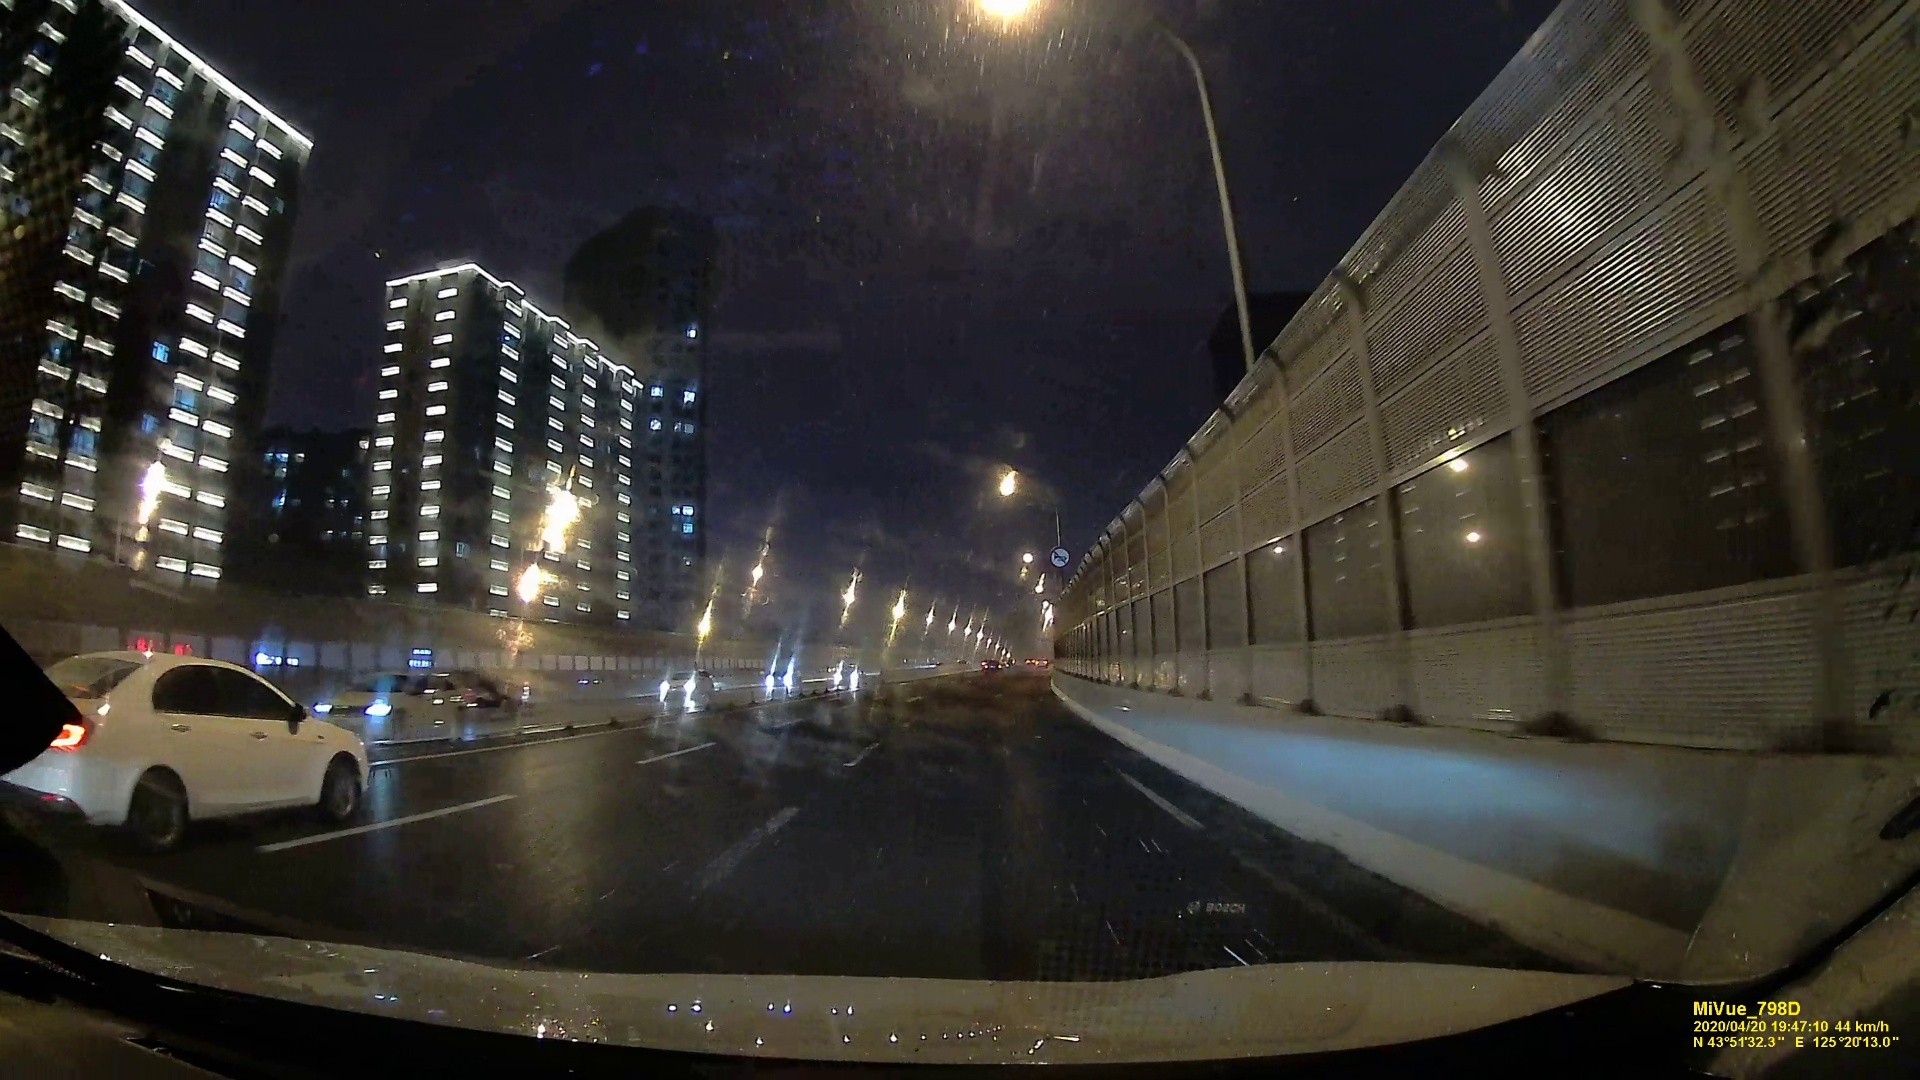traffic_sign: (1050, 549, 1068, 568)
vehicle: (22, 641, 359, 855), (658, 673, 713, 702)
